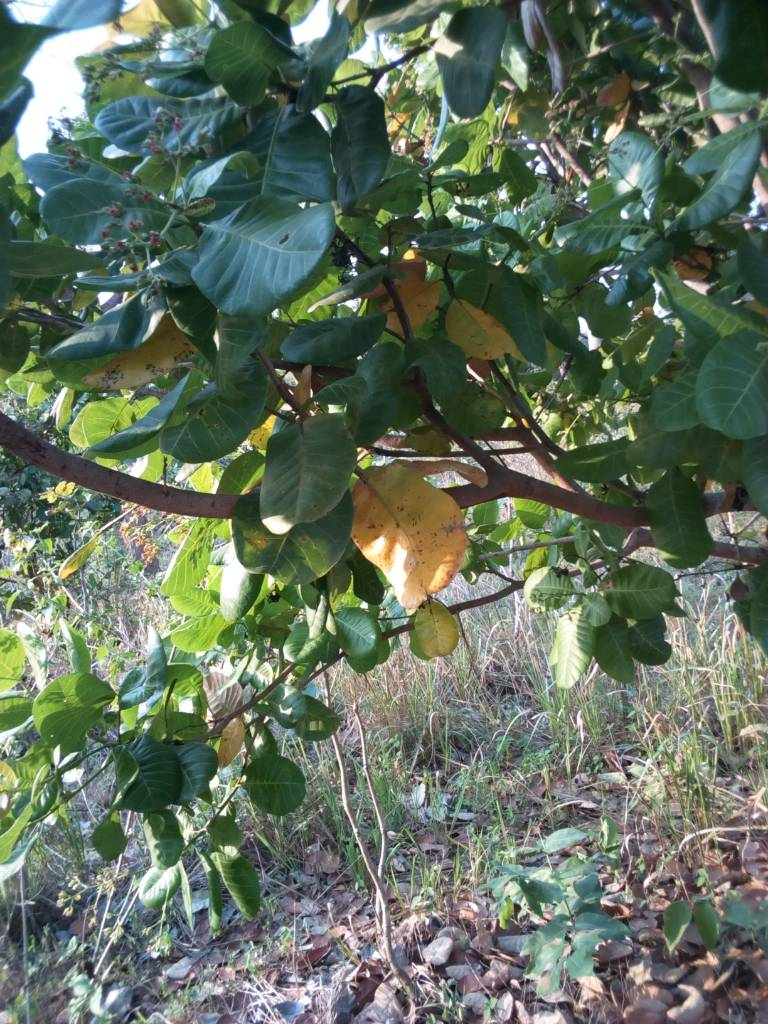Bactériose: (349, 467, 468, 607), (77, 319, 191, 392)
